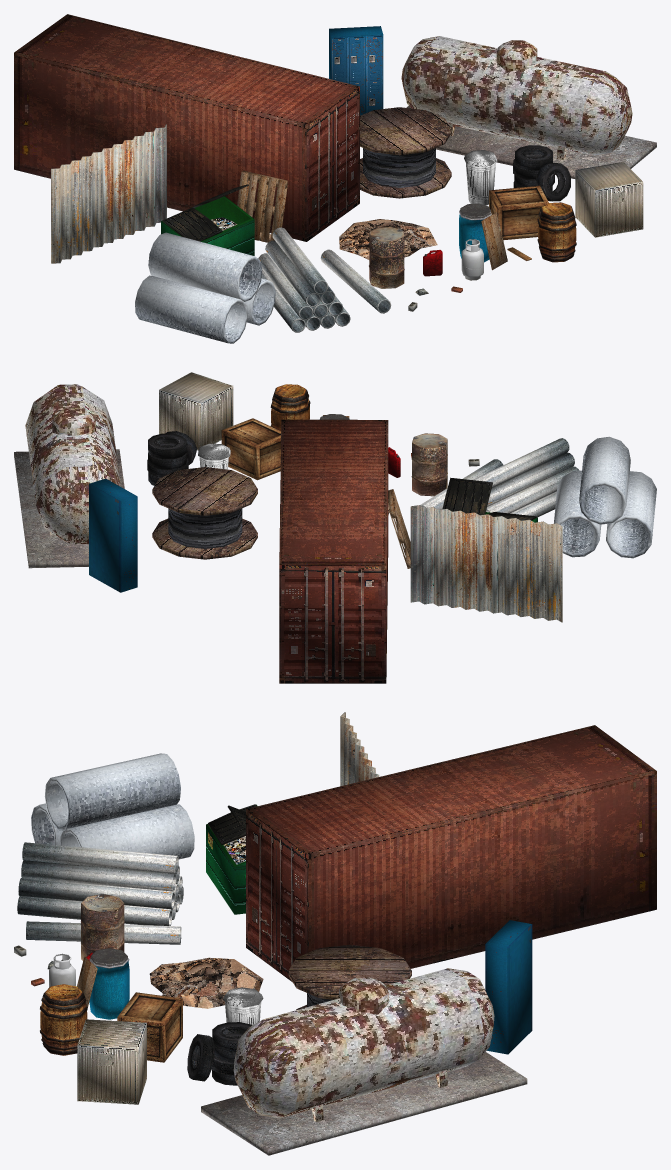
The model's file is showcase.glb.
3 renders of one model, top to bottom at view 1: azimuth 30°, elevation 25°; view 2: azimuth 150°, elevation 25°; view 3: azimuth 270°, elevation 25°, orthographic. The views are drawn at different scales.
Parts seen in each view (by area): view 1: Showcase; view 2: Showcase; view 3: Showcase.
Boxes of the visible parts, x1,y1,x2,y2 form: Showcase: (14, 14, 656, 343); Showcase: (14, 372, 656, 683); Showcase: (14, 712, 656, 1155).
Size of the model in its own units: 12.75 by 2.5 by 10.4.
Materials: 2 (2 with a texture image).
